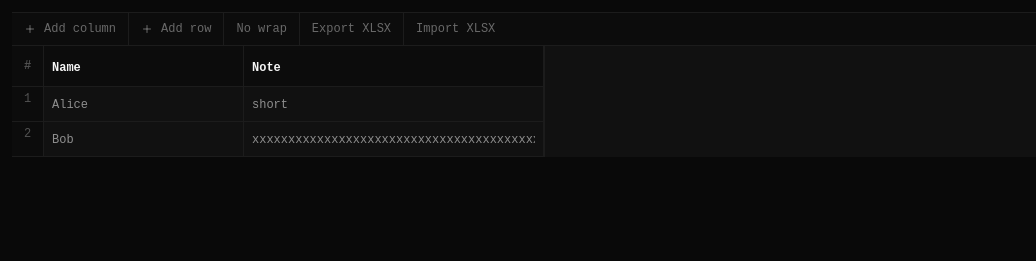
Test: TableGrid › persists the wrap toggle
Click the button "No wrap" at (261, 29), box [223, 13, 299, 45]
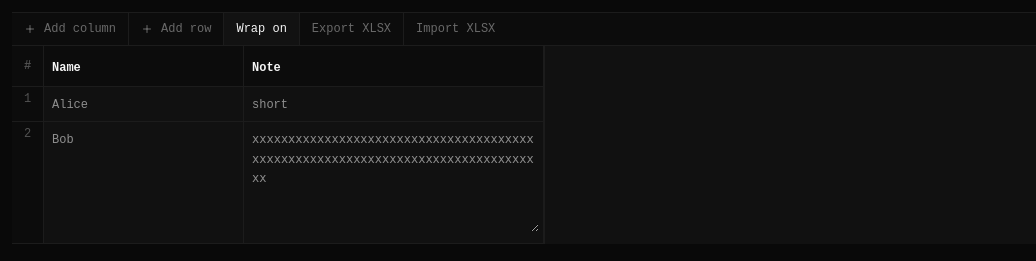
Expected: the text "Wrap on" is shown, [236, 21, 287, 37]
